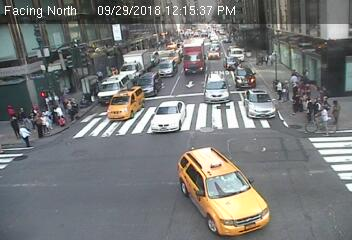car: (176, 146, 270, 233), (94, 73, 132, 102), (246, 88, 277, 121), (150, 101, 183, 131), (109, 90, 145, 117), (119, 51, 155, 75), (205, 74, 232, 105), (184, 36, 205, 73), (132, 75, 163, 94), (235, 65, 258, 90), (156, 57, 174, 79), (223, 55, 245, 70), (228, 47, 248, 62), (208, 47, 222, 60)
